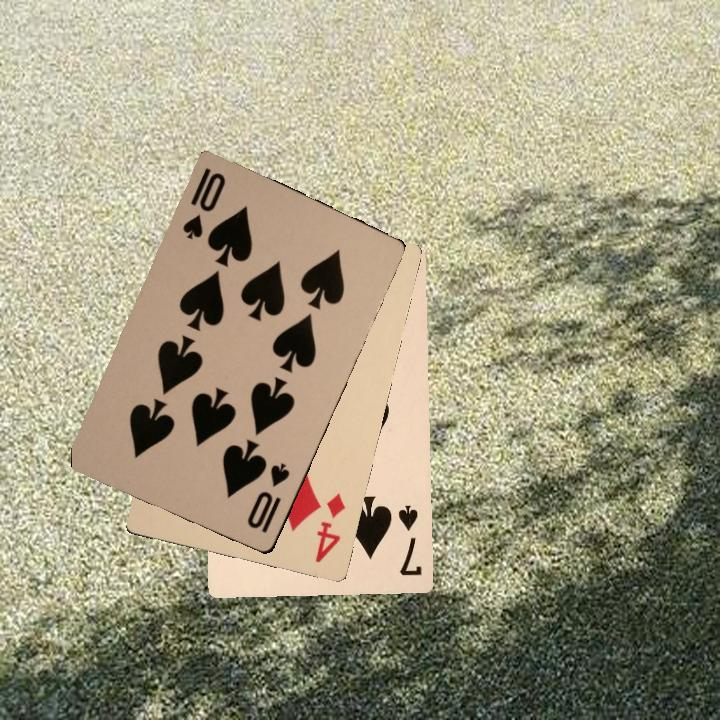10s: (178, 163, 229, 242), (243, 458, 293, 536)
4d: (311, 489, 348, 565)
7s: (394, 500, 424, 578)
